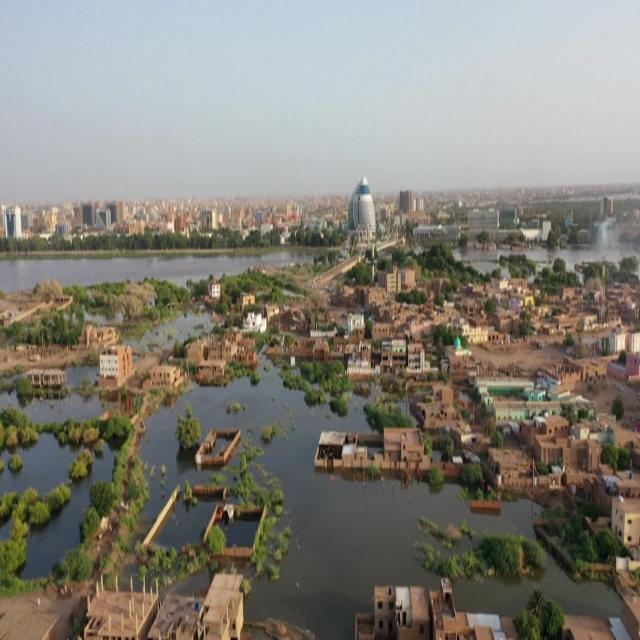flood: (140, 362, 537, 640), (0, 250, 313, 290), (24, 450, 110, 579), (456, 561, 622, 618), (524, 217, 640, 266), (19, 367, 110, 422), (0, 435, 77, 492), (153, 500, 214, 548), (139, 316, 212, 350), (221, 519, 258, 548), (462, 251, 500, 270)
house: (370, 579, 436, 640), (88, 585, 153, 640), (202, 567, 245, 640), (382, 426, 426, 472), (492, 395, 553, 426), (614, 493, 640, 557), (98, 345, 130, 397), (349, 331, 373, 366), (26, 368, 67, 387), (405, 339, 424, 376), (150, 364, 181, 386), (546, 416, 572, 440), (244, 312, 268, 334)
